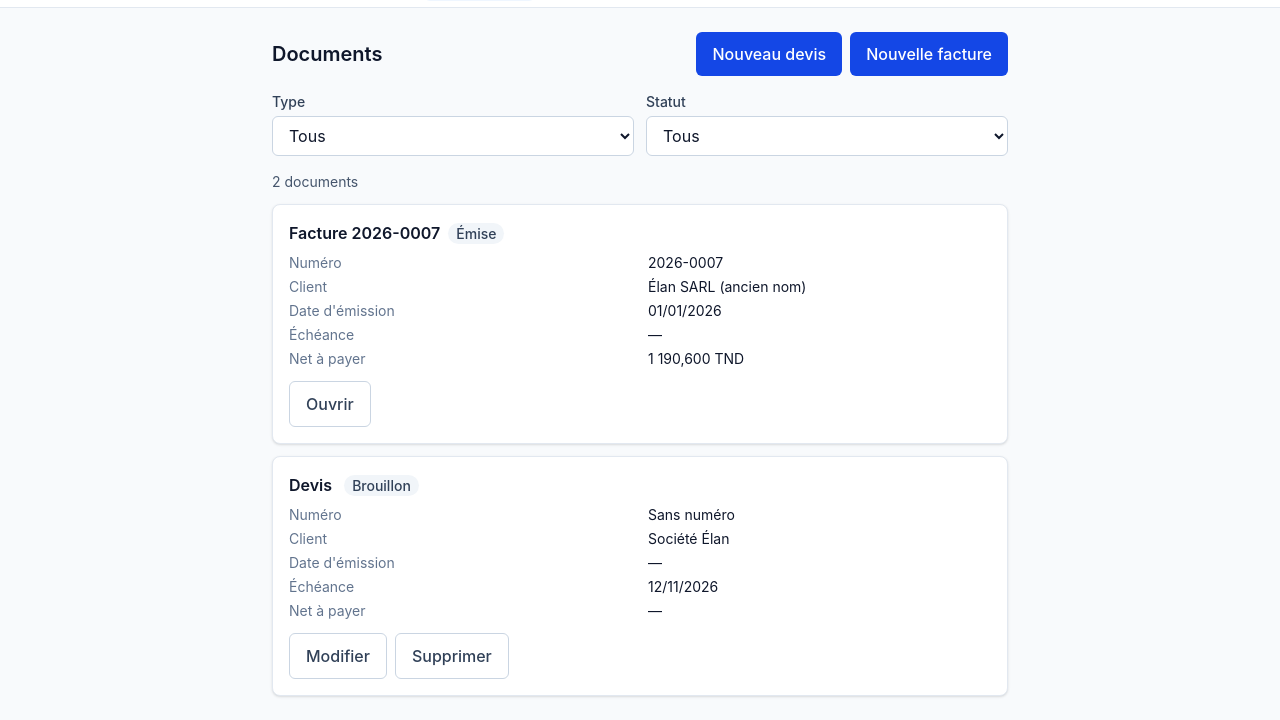
Test case: deleting a draft › deletes that document in the current organization and detects "no row deleted"
(page scrolled)
Click the button with aria-label "Supprimer : Devis" at (452, 656), box [395,633,509,679]
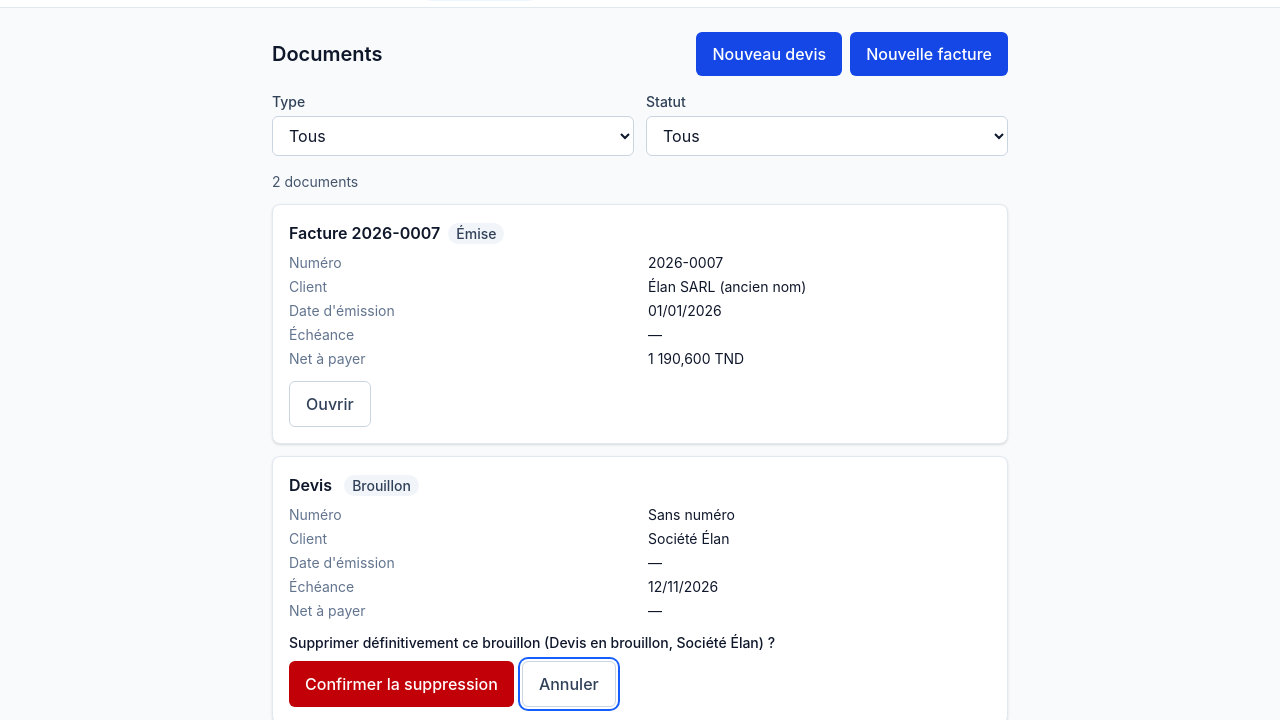
Click the button "Confirmer la suppression" at (401, 684), box [289,661,514,707]
(page scrolled)
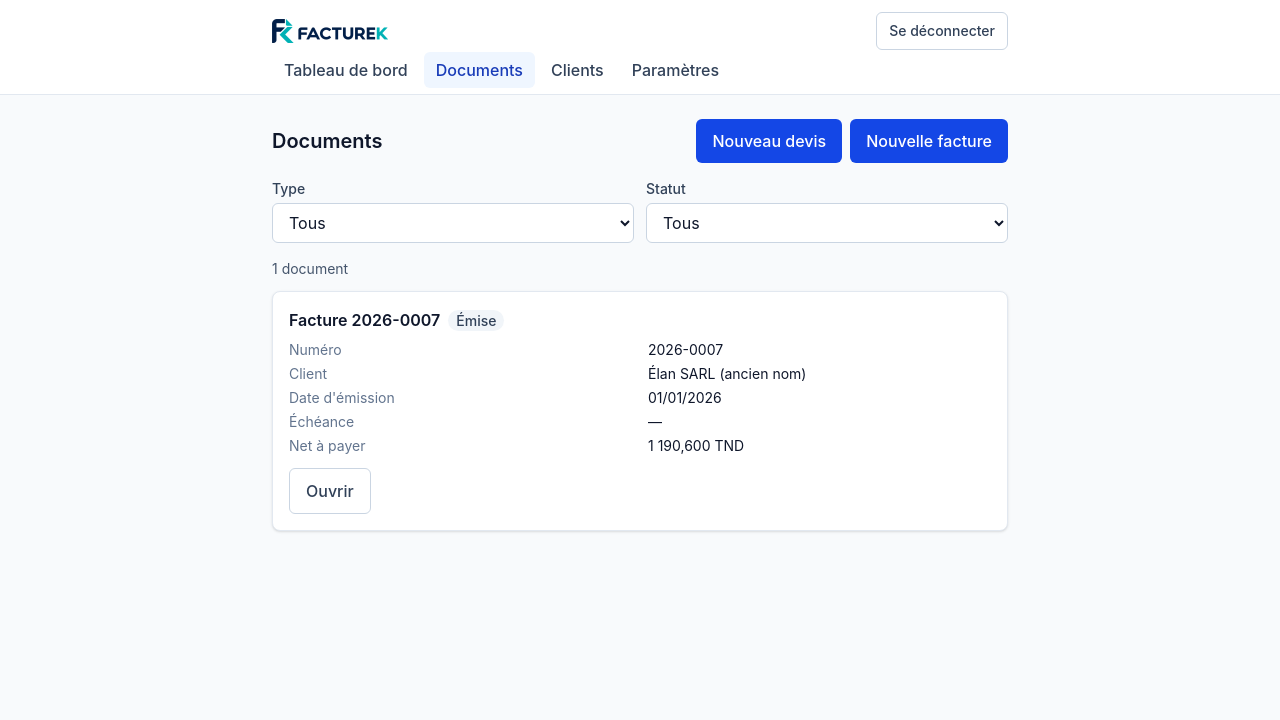
Now the text "1 document" is shown, box [272,260,348,277]
